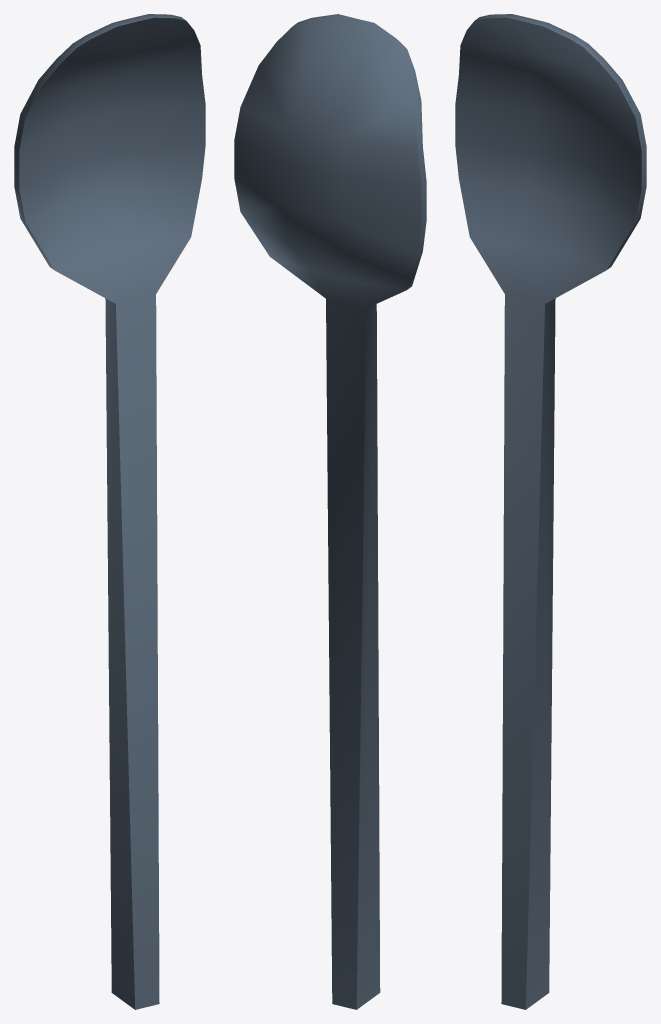
The model's file is Groin.fbx.
3 views of the same model, side by side, from view 1: azimuth 30°, elevation 25°; view 2: azimuth 150°, elevation 25°; view 3: azimuth 330°, elevation 25° (orthographic).
Parts seen in each view (by area): view 1: Cube.001; view 2: Cube.001; view 3: Cube.001.
Boxes of the visible parts, x1=… form: Cube.001: x1=14, y1=14, x2=205, y2=1009; Cube.001: x1=234, y1=14, x2=426, y2=1009; Cube.001: x1=455, y1=14, x2=646, y2=1009.
Size of the model in its own units: 0.04 by 0.2 by 0.02.
